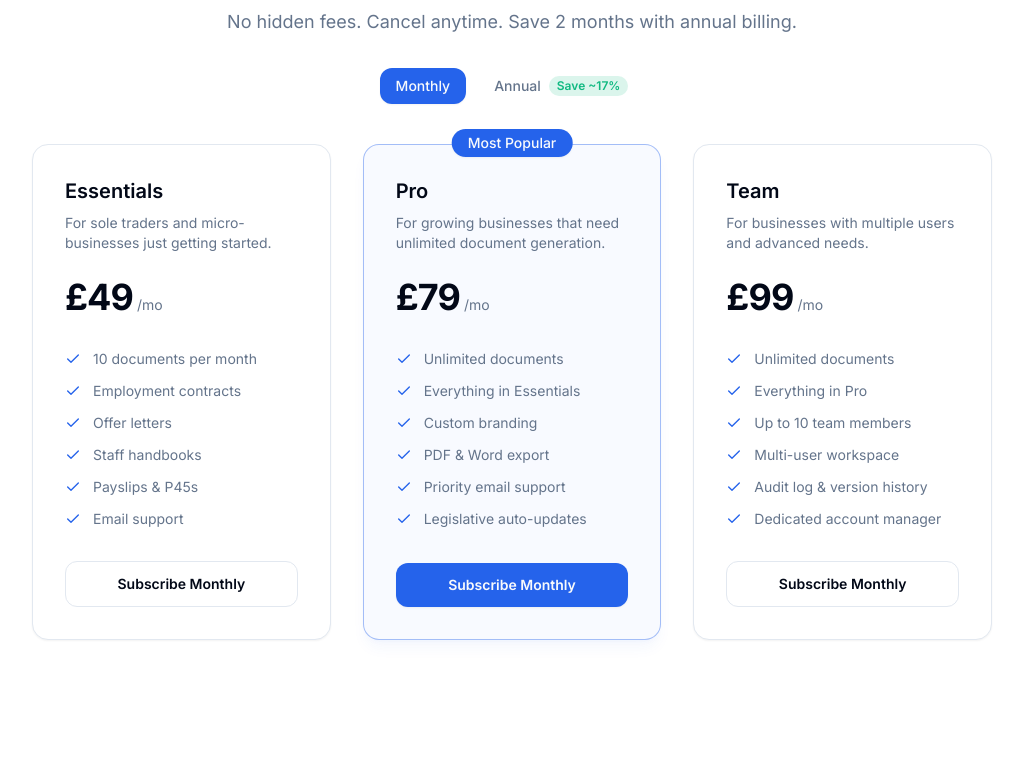
Test case: Pricing → Checkout integration › Authenticated user › shows an error when the API returns no URL
(page scrolled)
Click the button "Subscribe Monthly" below "Payslips & P45s".
click(181, 584)  # box [65,561,298,607]
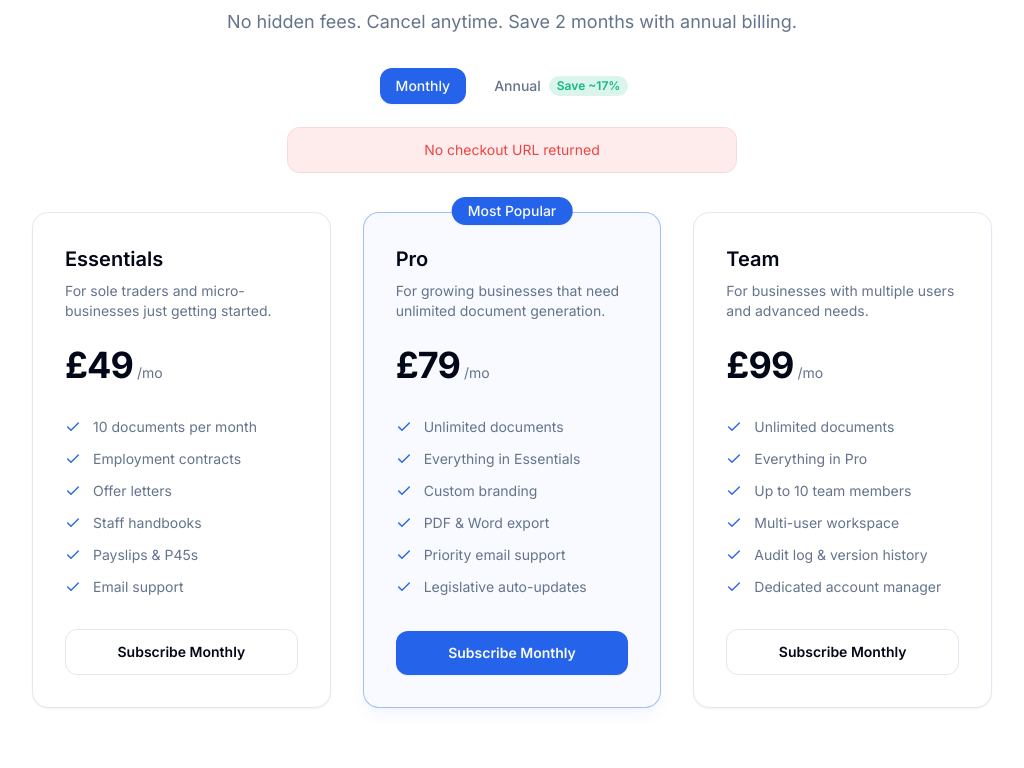
Now the text "No checkout URL returned" is shown, box [288,128,736,172]
